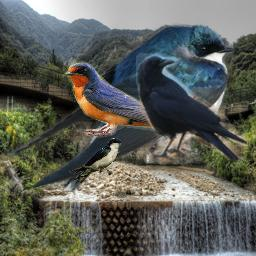Crow: (136, 51, 248, 165)
Swallow: (0, 23, 234, 192), (62, 60, 195, 140), (69, 138, 121, 183)
